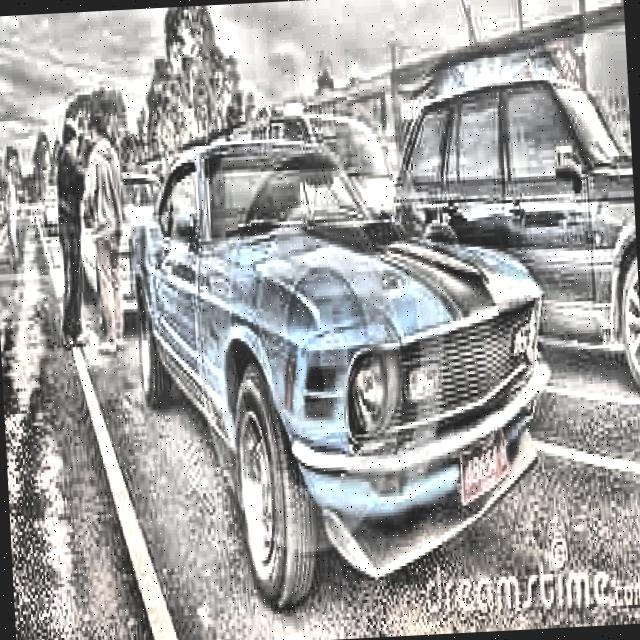license_plate: (458, 430, 512, 505)
